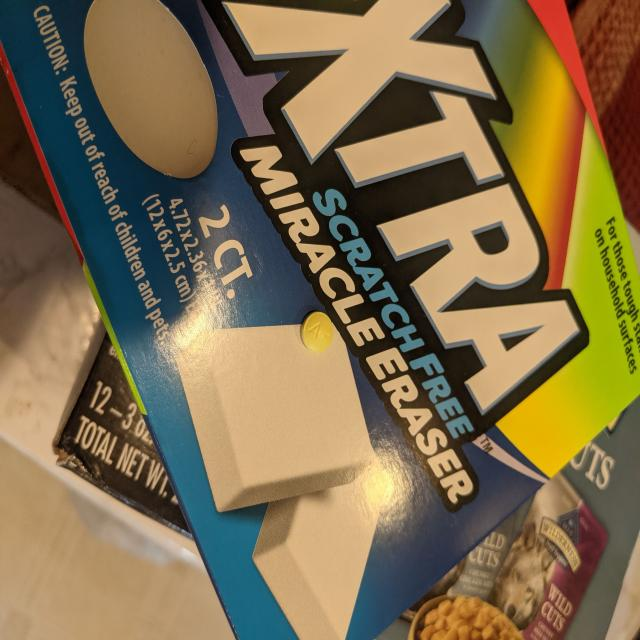non-organic waste: (301, 310, 334, 354)
